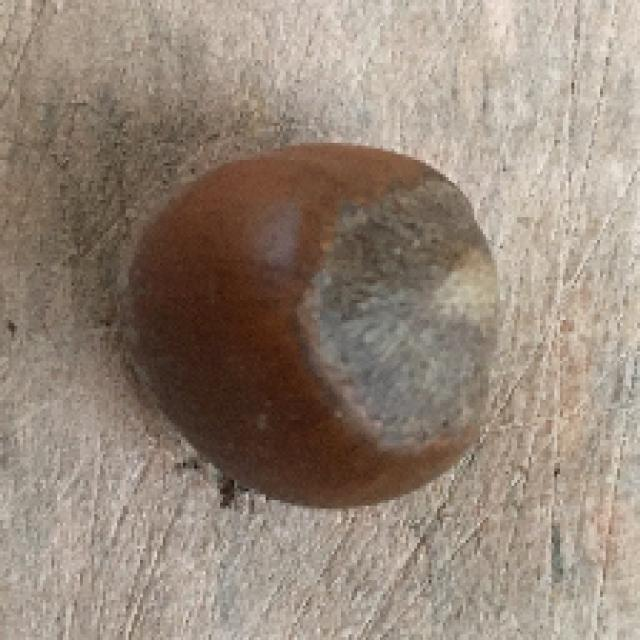qualityHazelnut: (116, 141, 502, 510)
